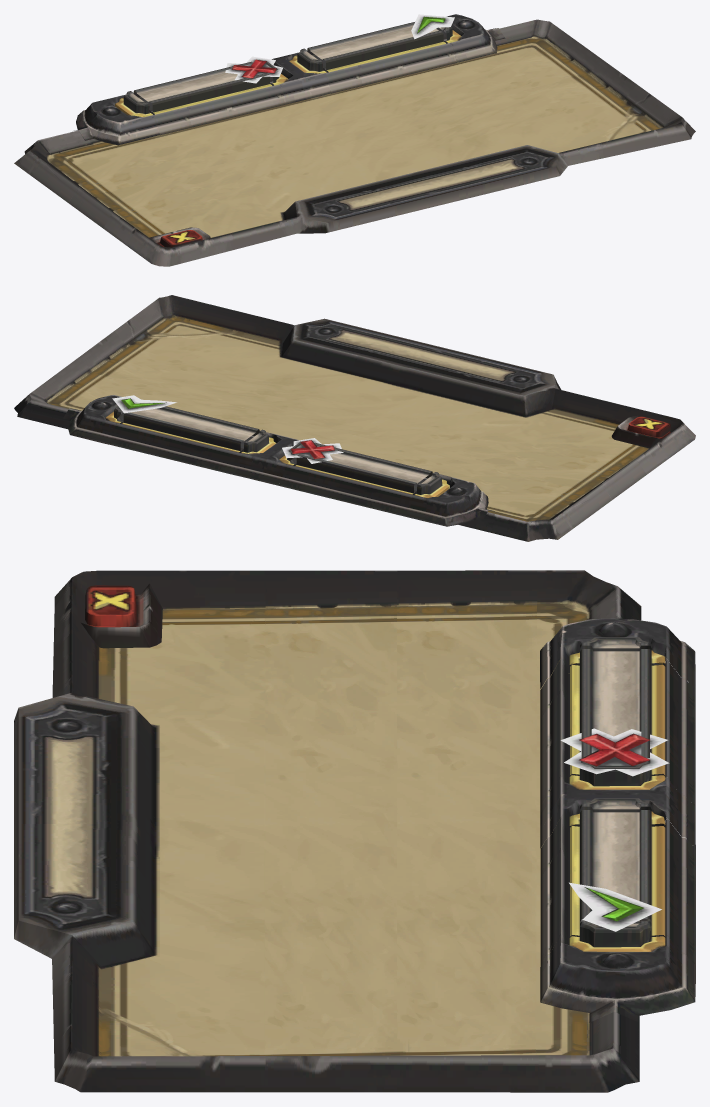
Rendered from msgbox.FBX.
3 renders of one model, top to bottom at view 1: azimuth 30°, elevation 25°; view 2: azimuth 150°, elevation 25°; view 3: azimuth 270°, elevation 25°, orthographic. The views are drawn at different scales.
Parts seen in each view (by area): view 1: 246595d8.obj, 2465b0e0.obj, 24657ad0.obj, 92e81d8.obj, 对象005, 246544c0.obj, 对象002, you1, 24655fc8.obj, 246529b8.obj, 对象004, 2465cbe8.obj (+4 smaller); view 2: 2465b0e0.obj, 246595d8.obj, 24657ad0.obj, 对象005, 246544c0.obj, 92e81d8.obj, 对象002, you1, 24655fc8.obj, 246529b8.obj, 对象001, 2465cbe8.obj (+3 smaller); view 3: 246595d8.obj, 2465b0e0.obj, 24657ad0.obj, 24655fc8.obj, 246544c0.obj, 对象005, 对象002, 92e81d8.obj, you1, 246529b8.obj, 2465cbe8.obj, 92eb7e8.obj (+9 smaller).
Part boxes in pixels (x1,y1,x2,y2): 246595d8.obj: [32, 33, 636, 228]; 2465b0e0.obj: [103, 84, 695, 266]; 24657ad0.obj: [14, 19, 564, 176]; 92e81d8.obj: [307, 22, 443, 69]; 对象005: [149, 83, 286, 135]; 246544c0.obj: [322, 42, 456, 93]; 对象002: [133, 61, 269, 112]; you1: [74, 94, 159, 145]; 24655fc8.obj: [440, 14, 505, 62]; 246529b8.obj: [270, 52, 330, 104]; 对象004: [225, 56, 282, 83]; 2465cbe8.obj: [160, 230, 210, 247]; 2465b0e0.obj: [115, 295, 695, 474]; 246595d8.obj: [44, 331, 646, 526]; 24657ad0.obj: [14, 383, 575, 541]; 对象005: [279, 464, 440, 516]; 246544c0.obj: [109, 423, 269, 474]; 92e81d8.obj: [123, 406, 259, 450]; 对象002: [296, 442, 432, 492]; you1: [405, 474, 494, 526]; 24655fc8.obj: [63, 395, 126, 444]; 246529b8.obj: [235, 433, 299, 485]; 对象001: [611, 415, 670, 448]; 2465cbe8.obj: [628, 416, 671, 437]; 246595d8.obj: [265, 570, 538, 1092]; 2465b0e0.obj: [14, 570, 265, 1092]; 24657ad0.obj: [536, 570, 641, 1092]; 24655fc8.obj: [540, 935, 695, 1022]; 246544c0.obj: [540, 818, 695, 965]; 对象005: [540, 659, 695, 807]; 对象002: [580, 649, 651, 757]; 92e81d8.obj: [580, 810, 651, 923]; you1: [540, 618, 695, 689]; 246529b8.obj: [540, 776, 695, 848]; 2465cbe8.obj: [81, 585, 149, 648]; 92eb7e8.obj: [570, 826, 665, 936].
Size of the model in its own units: 40.65 by 2.6 by 23.19.
